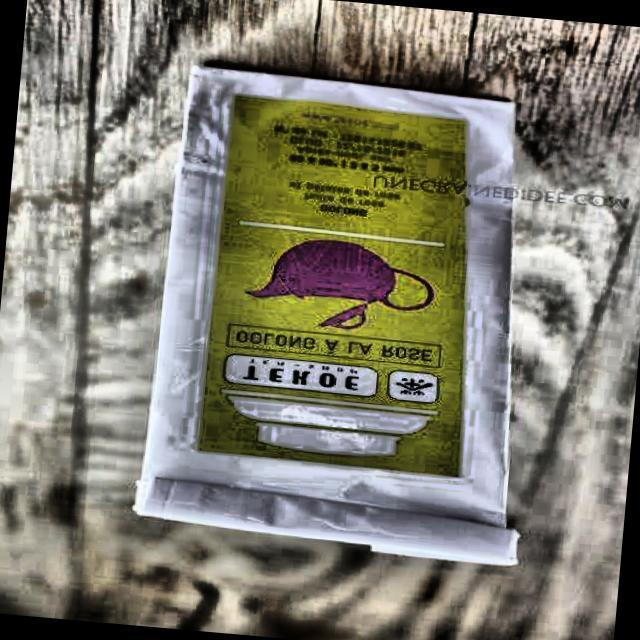cardboard: (130, 62, 557, 568)
